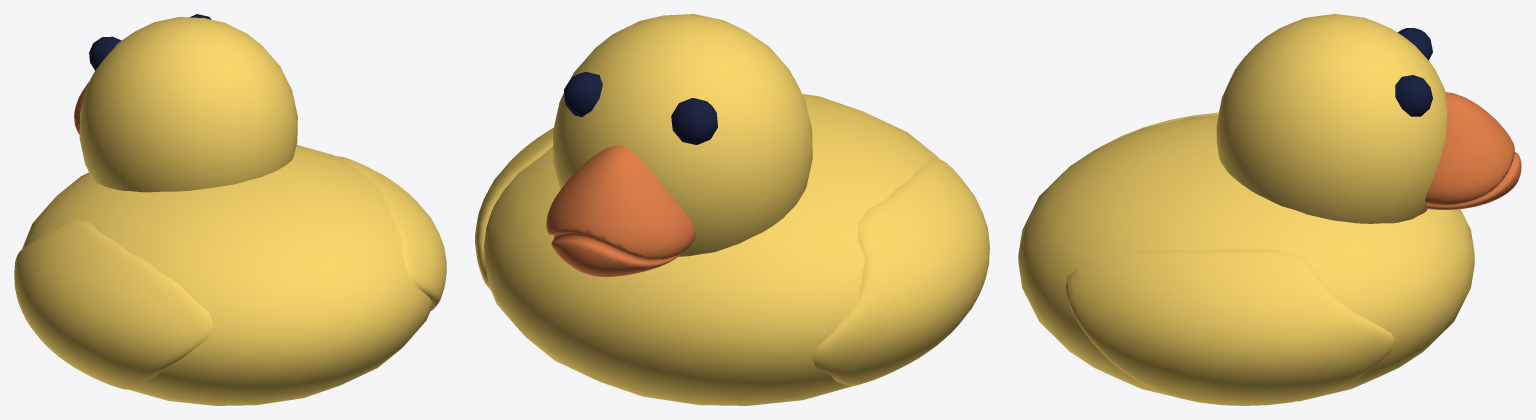
File: Duck.FBX
The picture shows the model from 3 angles, left to right: view 1: azimuth 30°, elevation 25°; view 2: azimuth 150°, elevation 25°; view 3: azimuth 270°, elevation 25°; orthographic projection. The views are drawn at different scales.
Parts seen in each view (by area): view 1: Duck; view 2: Duck; view 3: Duck.
Part boxes in pixels (left/top/right/bottom): Duck: left=14, top=14, right=446, bottom=405; Duck: left=475, top=14, right=989, bottom=405; Duck: left=1018, top=14, right=1521, bottom=405.
Bounding box in the file's own units: 227 × 240 × 181.
1 material, 1 textured.
